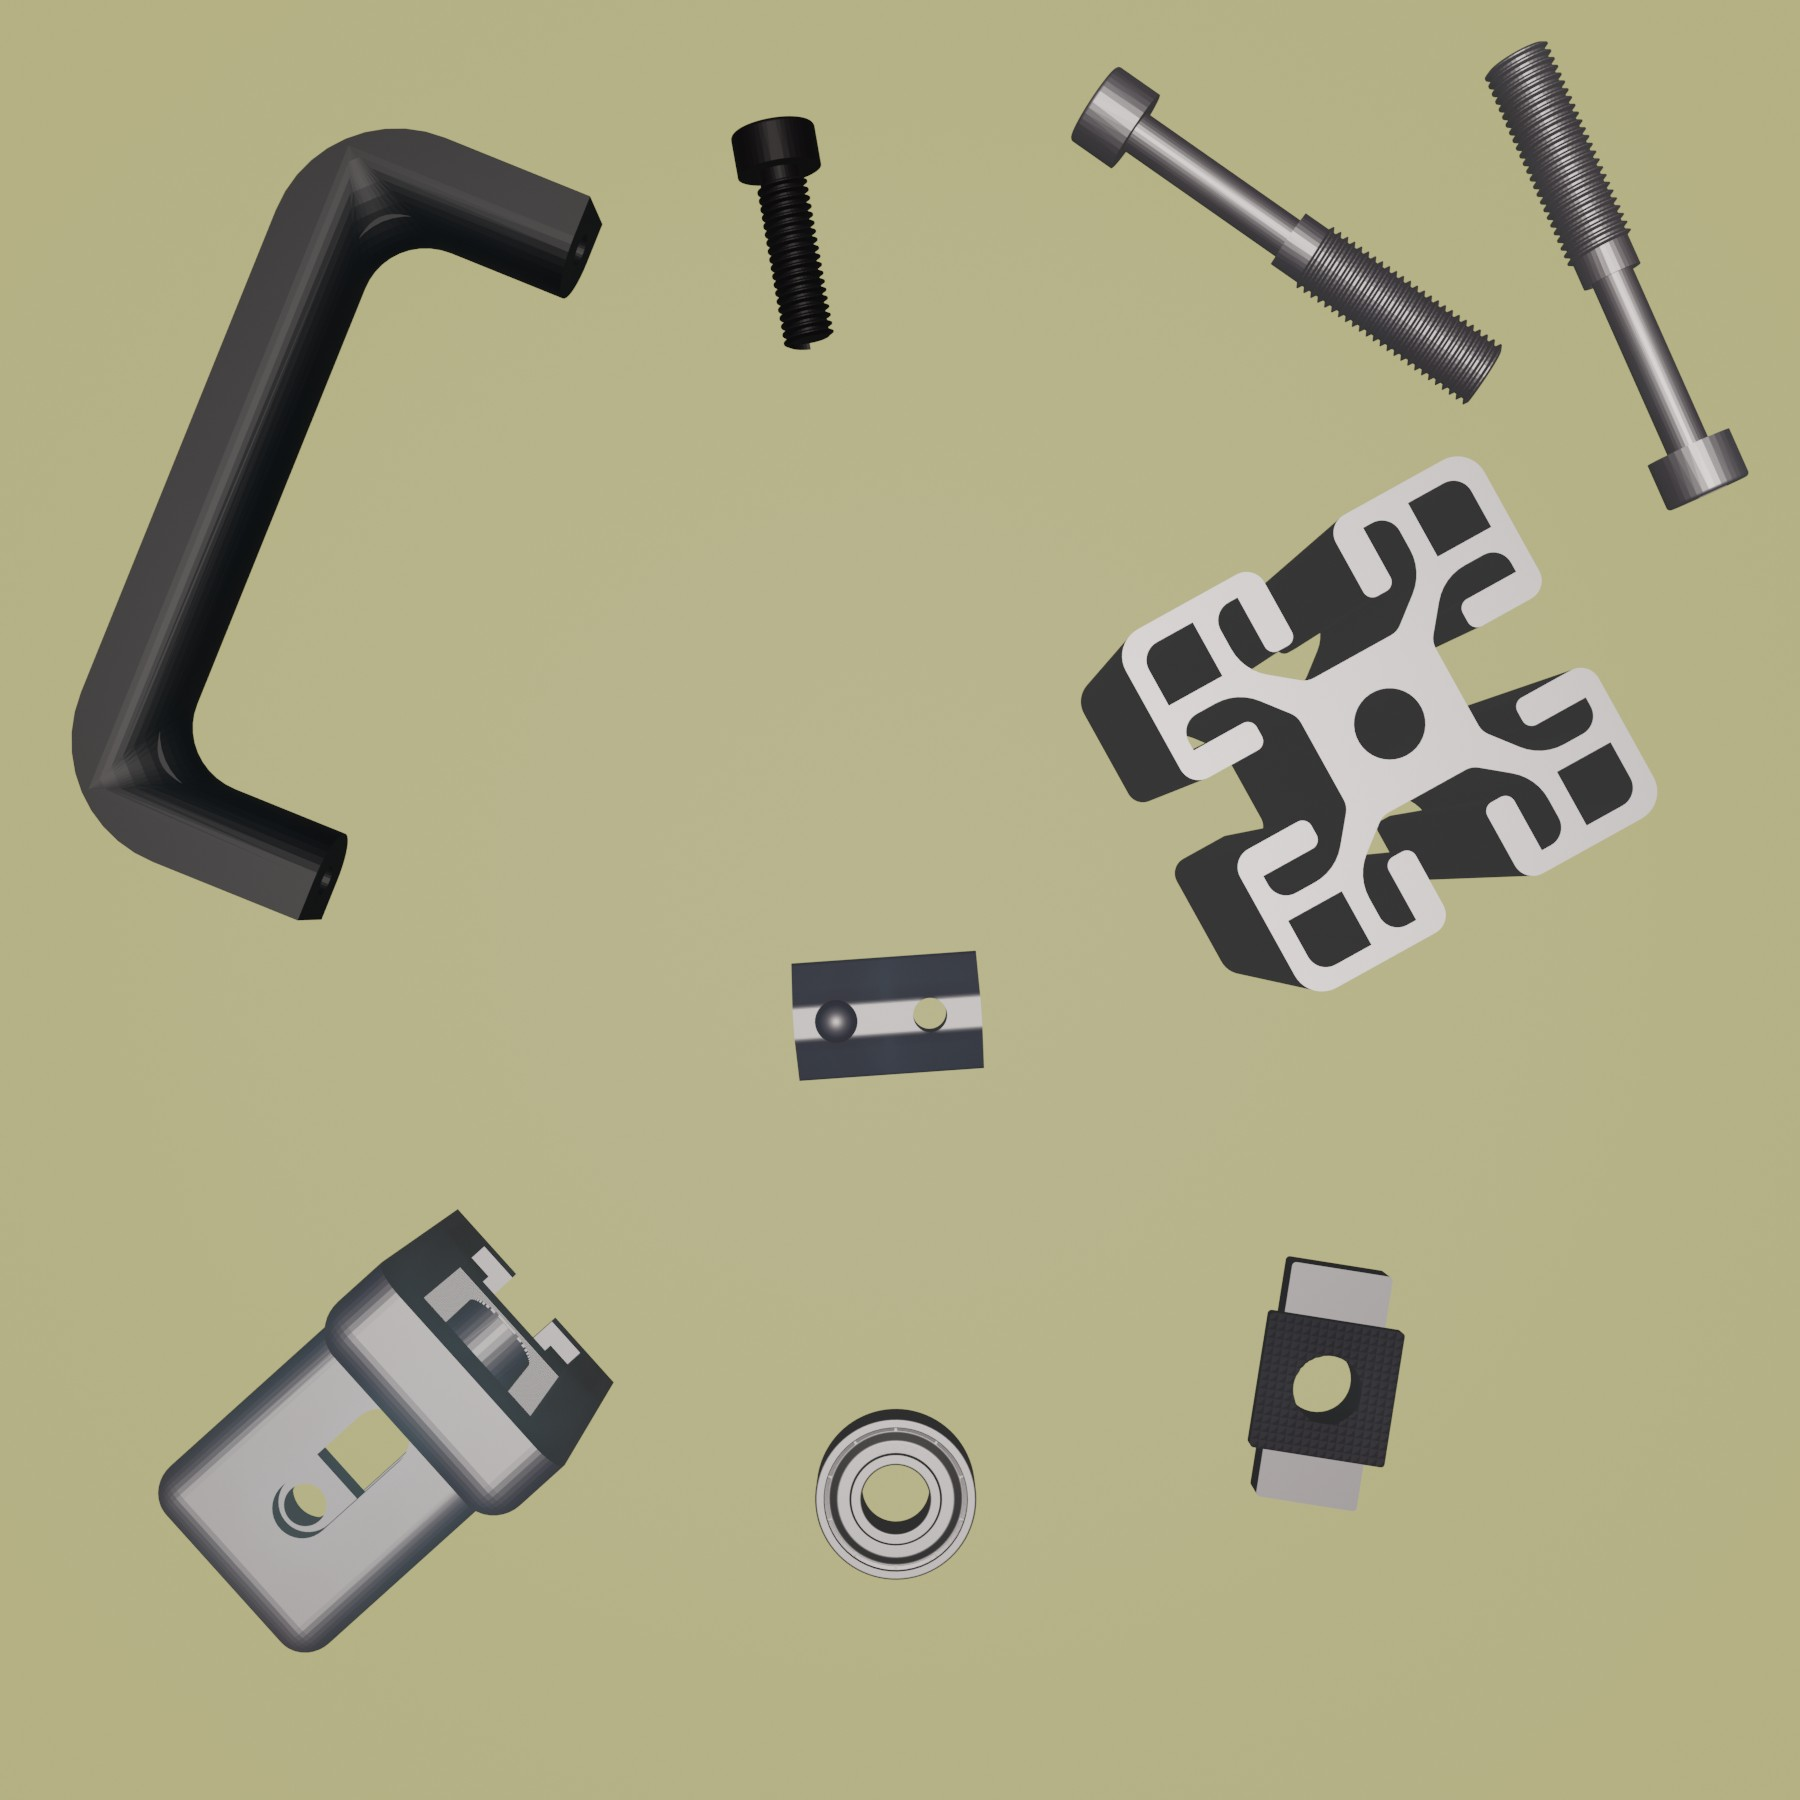Aluminium Extension: (1078, 452, 1662, 996)
Ball Bearing: (813, 1404, 981, 1582)
Multiwinkel: (157, 1205, 613, 1657)
Pull Handle: (69, 124, 607, 925)
Shoulder Socket Head Cap Screw: (1070, 64, 1505, 412), (1480, 36, 1751, 514)
Socket Head Cap Screw: (729, 110, 836, 353)
T Nut Square: (1246, 1251, 1408, 1516)
T Spring Nut: (788, 946, 989, 1085)
